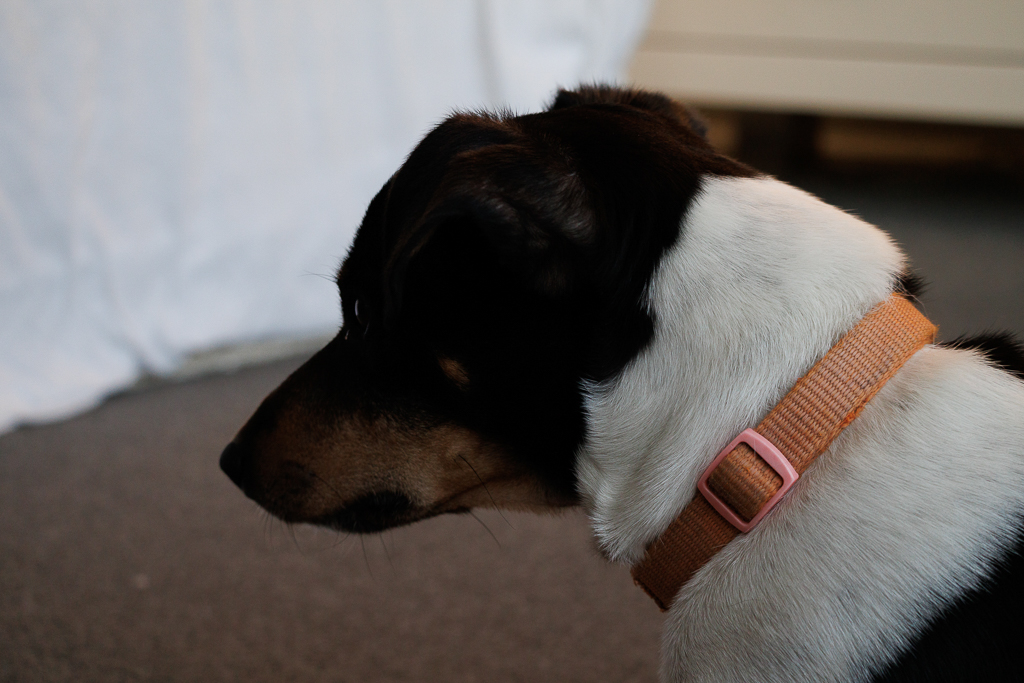Dog: (211, 67, 1024, 683)
